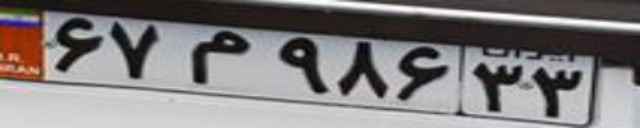3: (531, 65, 587, 118), (471, 62, 526, 112)
6: (393, 44, 451, 101), (48, 17, 102, 74)
7: (107, 20, 163, 81)
8: (333, 40, 388, 96)
9: (276, 37, 327, 93)
mim: (186, 29, 251, 86)
